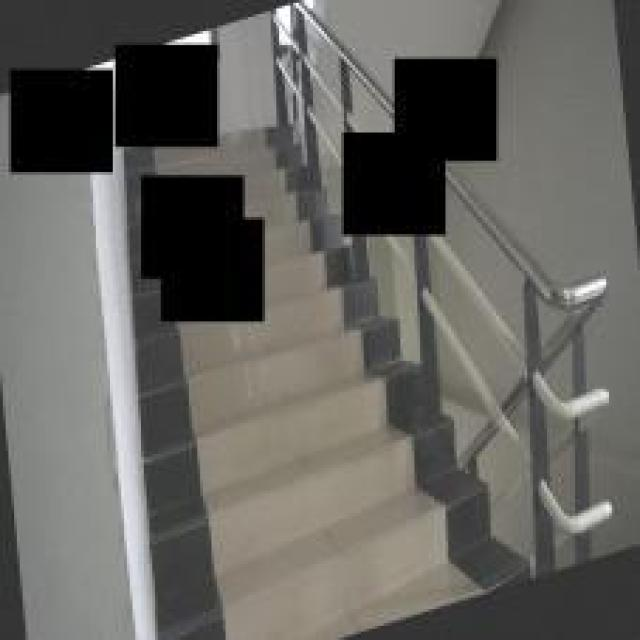upstair: (131, 337, 545, 638)
